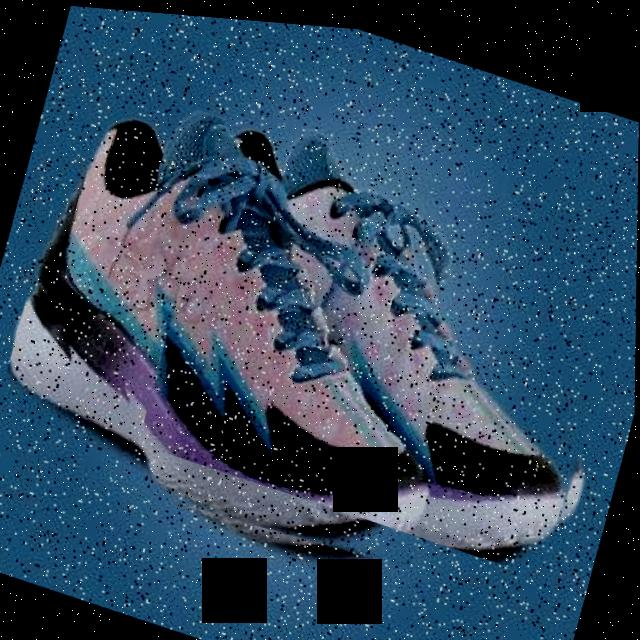shoe: (0, 65, 521, 591), (138, 91, 639, 577)
